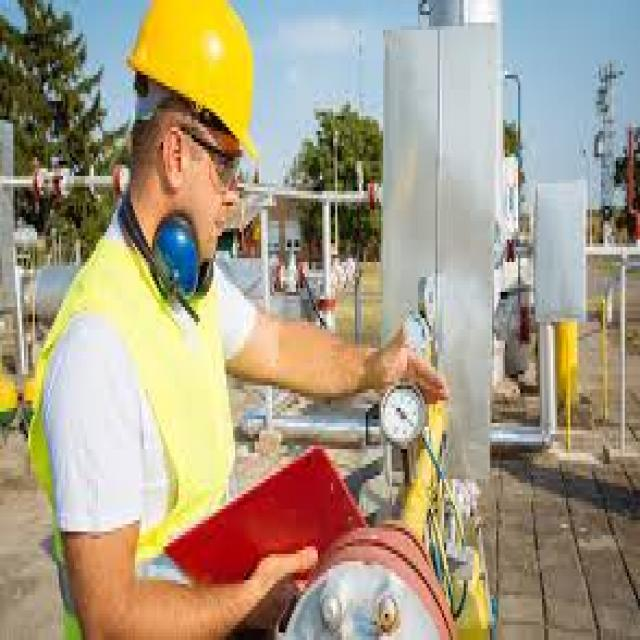Reflective-Jacket: (29, 228, 238, 573)
Safety-Helmet: (124, 0, 268, 165)
